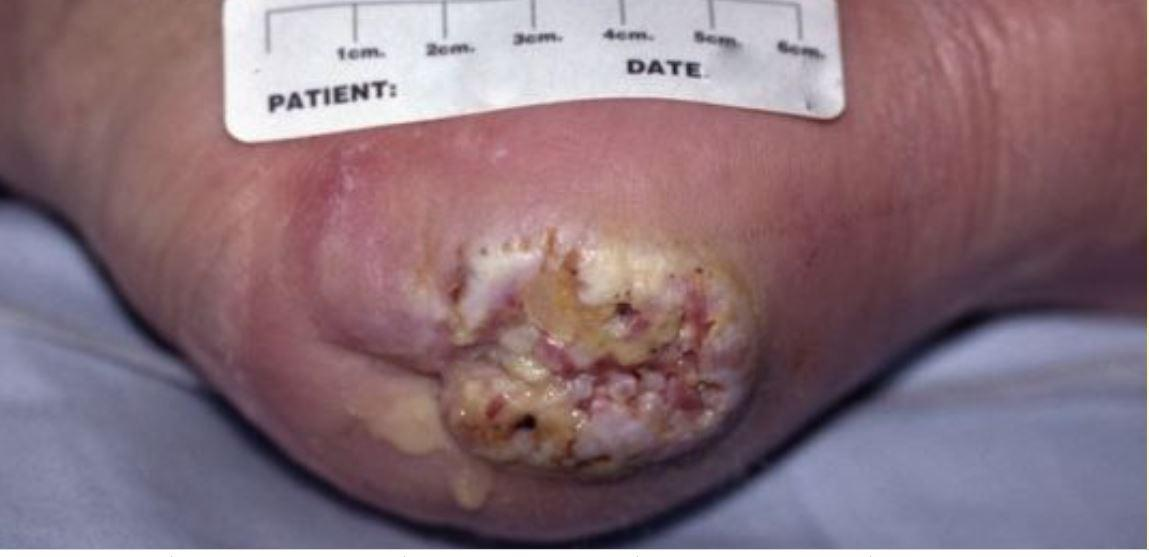Stage3: (436, 260, 777, 474)
